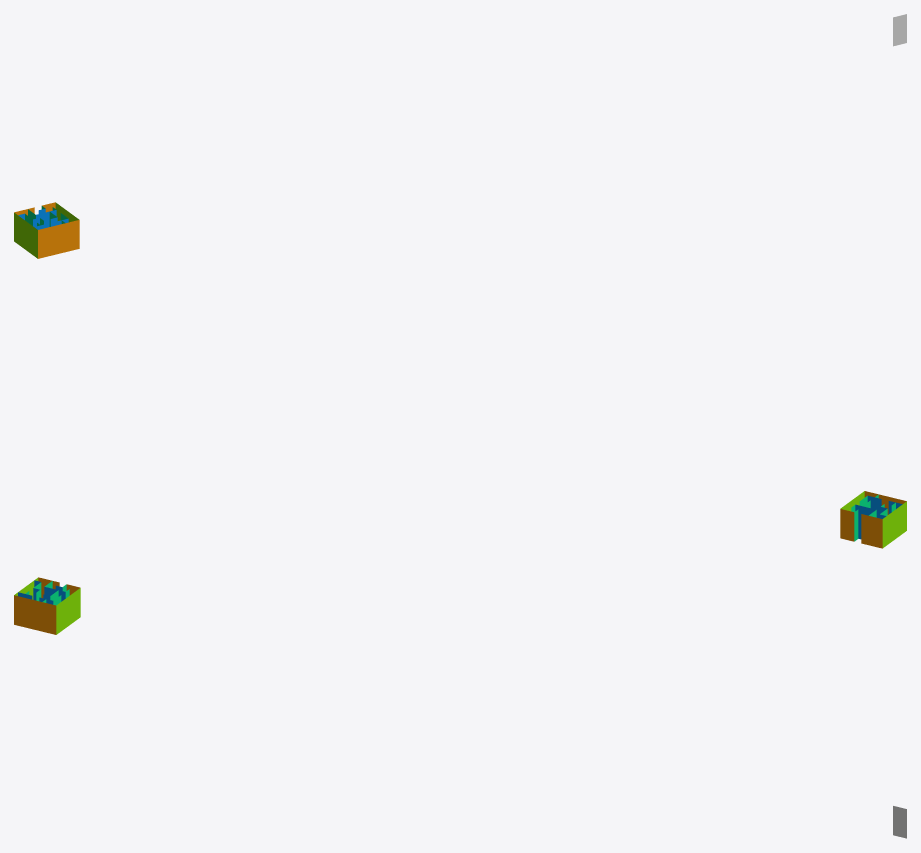
Rendered from demo.glb.
3 views of the same model, one above another, from view 1: azimuth 30°, elevation 25°; view 2: azimuth 150°, elevation 25°; view 3: azimuth 330°, elevation 25° (orthographic).
Parts seen in each view (by area): view 1: Plane.004, Plane.002; view 2: Plane.002, Plane.005; view 3: Plane.004, Plane.003.
Part boxes in pixels (x1,y1,x2,y2): Plane.004: [38, 220, 79, 258]; Plane.002: [14, 212, 37, 258]; Plane.002: [882, 501, 906, 547]; Plane.005: [861, 514, 882, 548]; Plane.004: [14, 595, 56, 634]; Plane.003: [56, 588, 80, 634].
Size of the model in its own units: 63 by 2 by 3.
